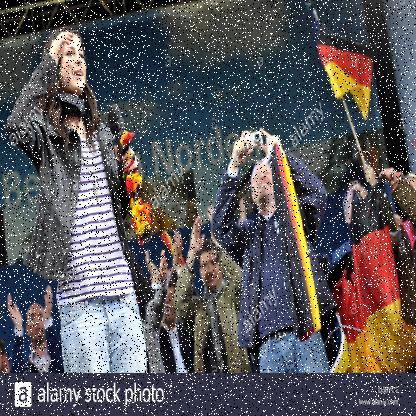de: (346, 181, 416, 373), (316, 16, 382, 131), (281, 145, 313, 338)
